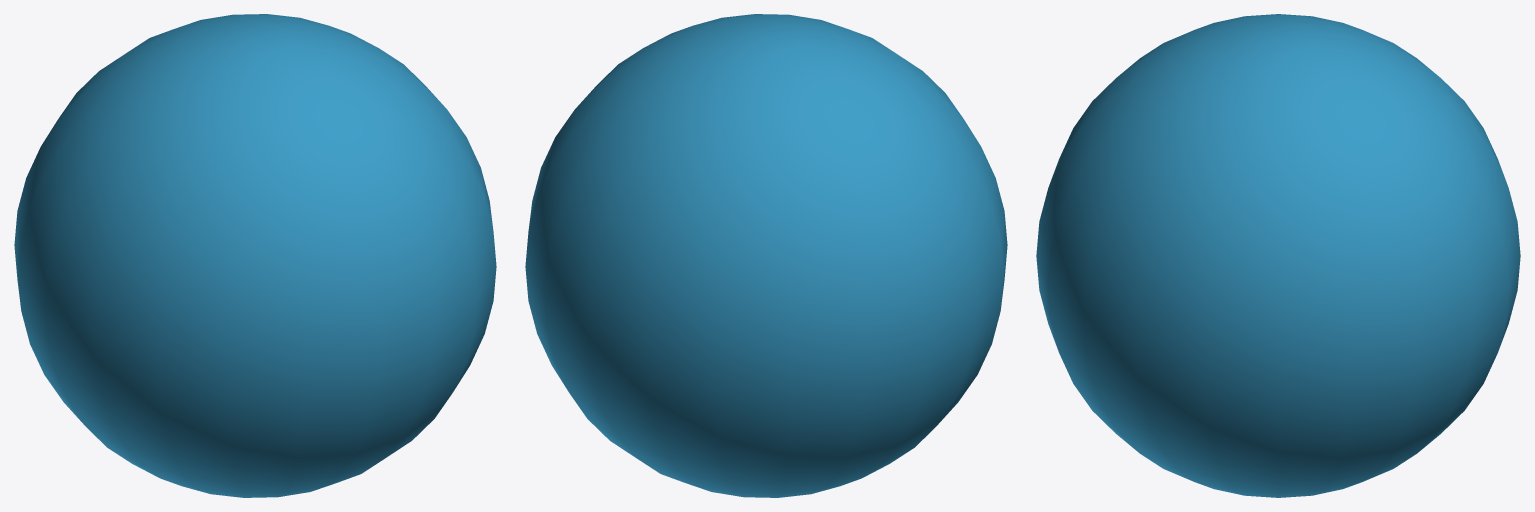
The model's file is navycuerpo.obj.
The picture shows the model from 3 angles, left to right: view 1: azimuth 30°, elevation 25°; view 2: azimuth 150°, elevation 25°; view 3: azimuth 270°, elevation 25°; orthographic projection.
Parts seen in each view (by area): view 1: navycuerpo:pSphere1; view 2: navycuerpo:pSphere1; view 3: navycuerpo:pSphere1.
Part boxes in pixels (box(x1,y1,x2,y2)): navycuerpo:pSphere1: box(14, 14, 496, 497); navycuerpo:pSphere1: box(525, 14, 1007, 497); navycuerpo:pSphere1: box(1036, 14, 1520, 497).
Size of the model in its own units: 1.67 by 1.67 by 1.67.
Materials: 1 (1 with a texture image).
